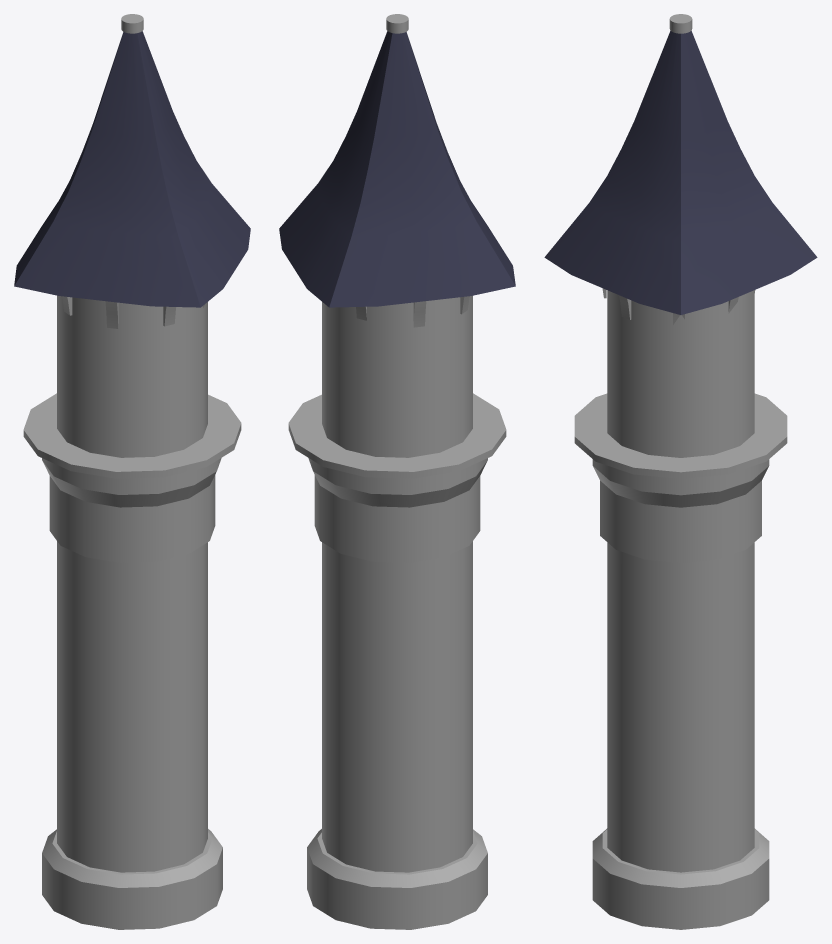
File: Castle_TowerB_Medium.fbx
The picture shows the model from 3 angles, left to right: view 1: azimuth 30°, elevation 25°; view 2: azimuth 150°, elevation 25°; view 3: azimuth 270°, elevation 25°; orthographic projection.
Parts seen in each view (by area): view 1: Castle_TowerB_Medium; view 2: Castle_TowerB_Medium; view 3: Castle_TowerB_Medium.
Part boxes in pixels (box(x1,y1,x2,y2)): Castle_TowerB_Medium: box(14, 14, 250, 929); Castle_TowerB_Medium: box(279, 14, 515, 929); Castle_TowerB_Medium: box(544, 14, 817, 929).
Bounding box in the file's own units: 231 × 816 × 231.
